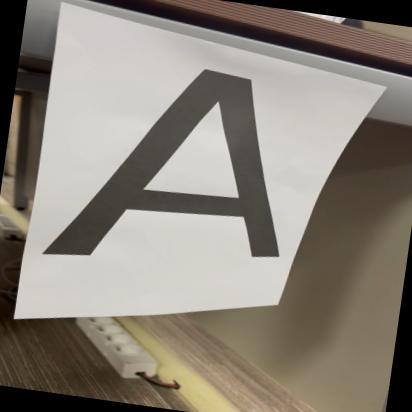seat: (39, 32, 312, 302)
